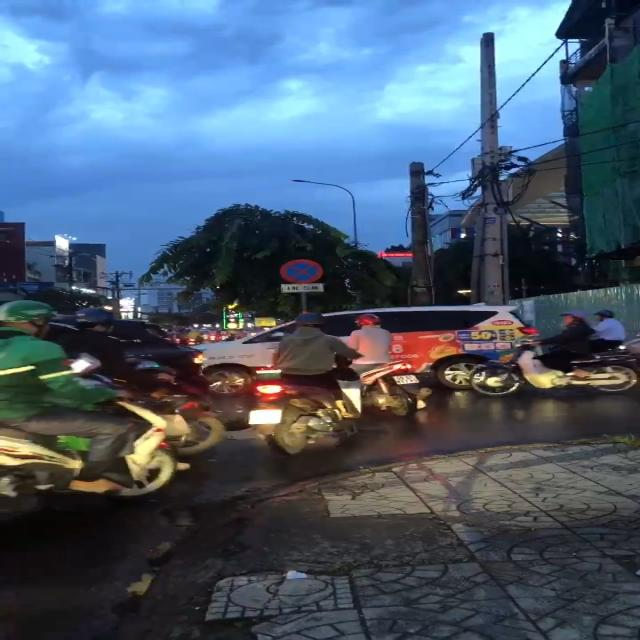Bien bao cam dung xe va do xe: (275, 256, 328, 284)
